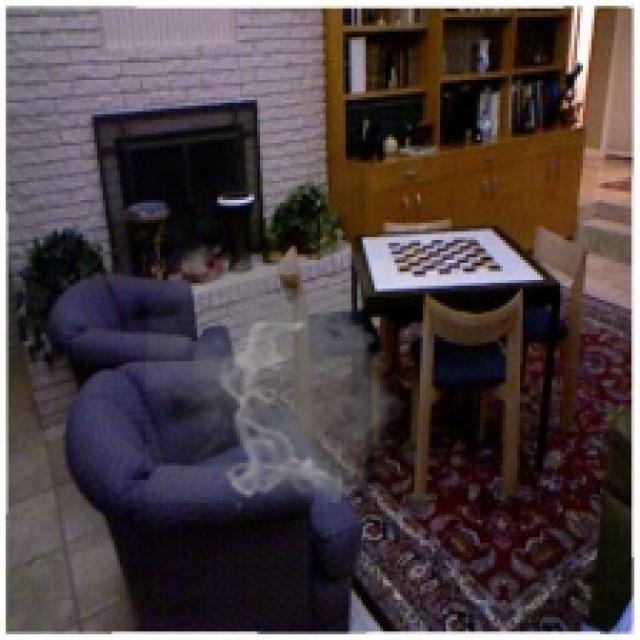Smoke: (146, 237, 414, 506)
